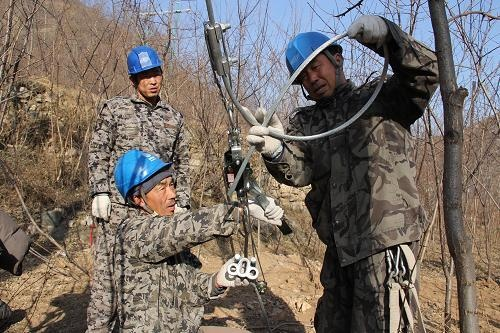blue: (112, 146, 176, 218), (286, 32, 345, 99), (125, 45, 165, 100)
